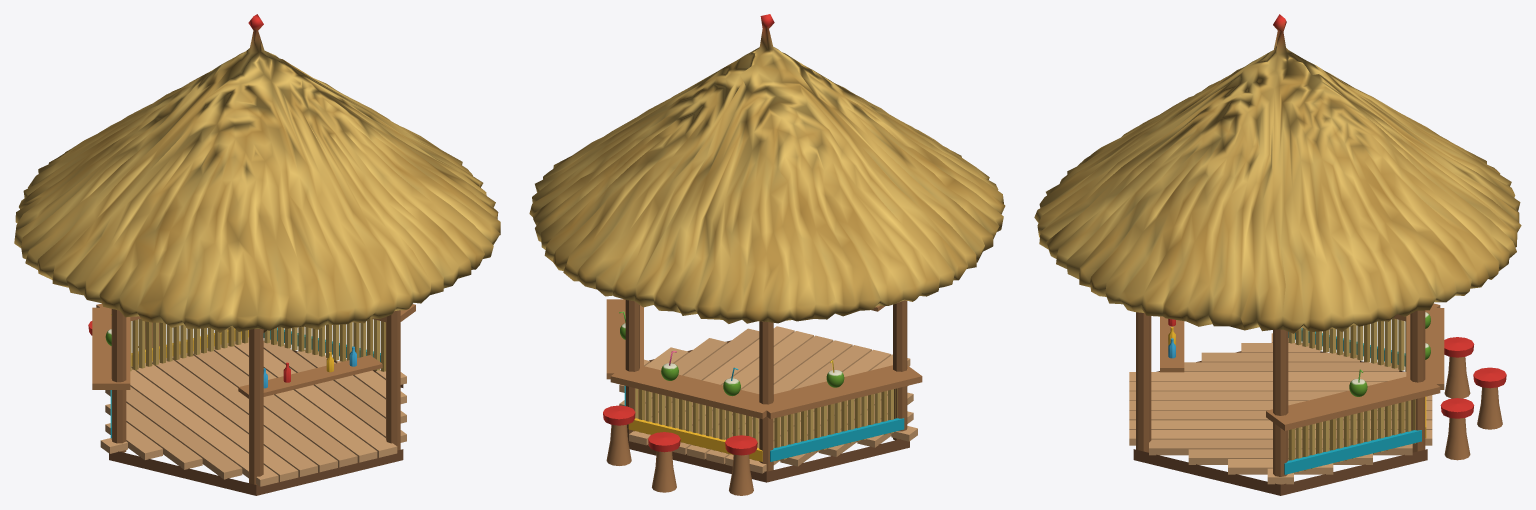
The model's file is beach_hut.glb.
3 views of the same model, side by side, from view 1: azimuth 30°, elevation 25°; view 2: azimuth 150°, elevation 25°; view 3: azimuth 270°, elevation 25° (orthographic). The views are drawn at different scales.
Visible parts, largest first — view 1: beach_hut_mesh; view 2: beach_hut_mesh; view 3: beach_hut_mesh.
Part boxes in pixels (x1,y1,x2,y2): beach_hut_mesh: [14, 14, 500, 495]; beach_hut_mesh: [529, 14, 1005, 495]; beach_hut_mesh: [1034, 14, 1521, 495].
Size of the model in its own units: 6.42 by 5.93 by 6.41.
